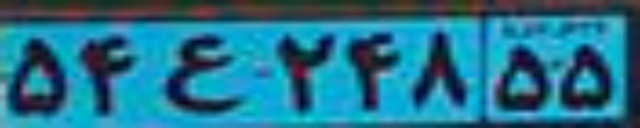2: (272, 30, 337, 112)
4: (346, 31, 403, 111), (80, 35, 136, 115)
5: (2, 38, 68, 116), (490, 44, 550, 111), (556, 43, 615, 110)
8: (410, 31, 470, 110)
ain: (161, 34, 243, 114)
